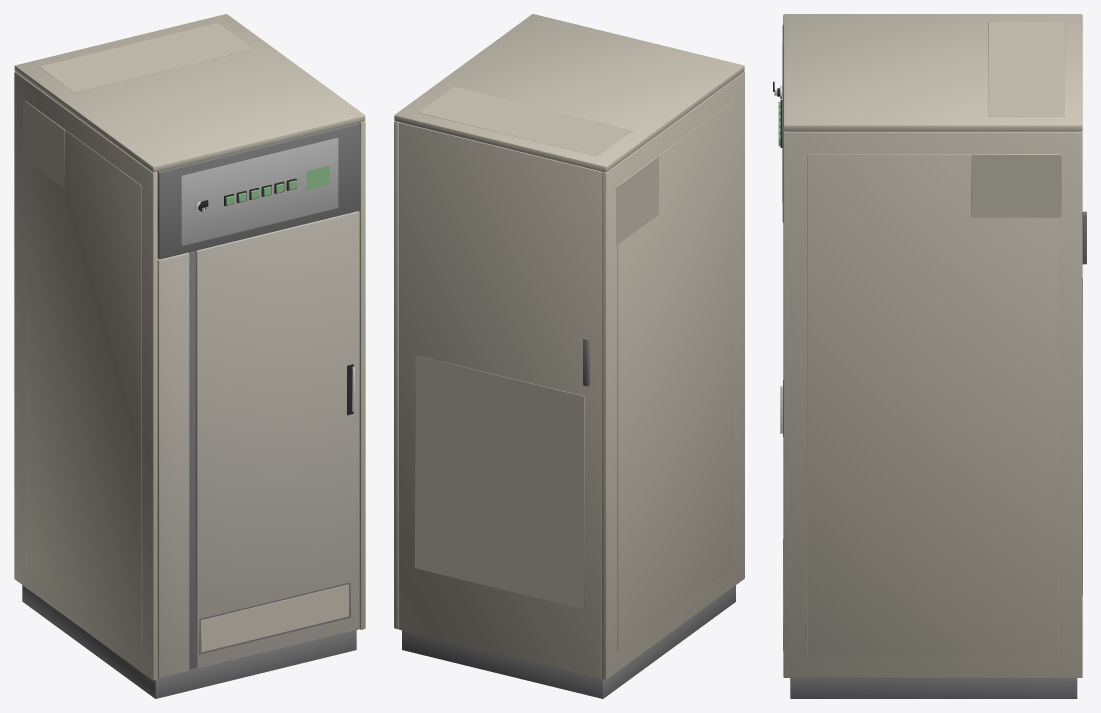
File: Kit_SystemCabinet_CPU.fbx
The picture shows the model from 3 angles, left to right: view 1: azimuth 30°, elevation 25°; view 2: azimuth 150°, elevation 25°; view 3: azimuth 270°, elevation 25°; orthographic projection. The views are drawn at different scales.
Parts seen in each view (by area): view 1: Kit_SystemCabinet_CPU_LOD0; view 2: Kit_SystemCabinet_CPU_LOD0; view 3: Kit_SystemCabinet_CPU_LOD0.
Part boxes in pixels (left/top/right/bottom): Kit_SystemCabinet_CPU_LOD0: left=14, top=14, right=365, bottom=698; Kit_SystemCabinet_CPU_LOD0: left=394, top=14, right=744, bottom=698; Kit_SystemCabinet_CPU_LOD0: left=773, top=14, right=1086, bottom=698.
Size of what is drawn, in the model's own units: 0.7671 by 1.83 by 0.9016.
